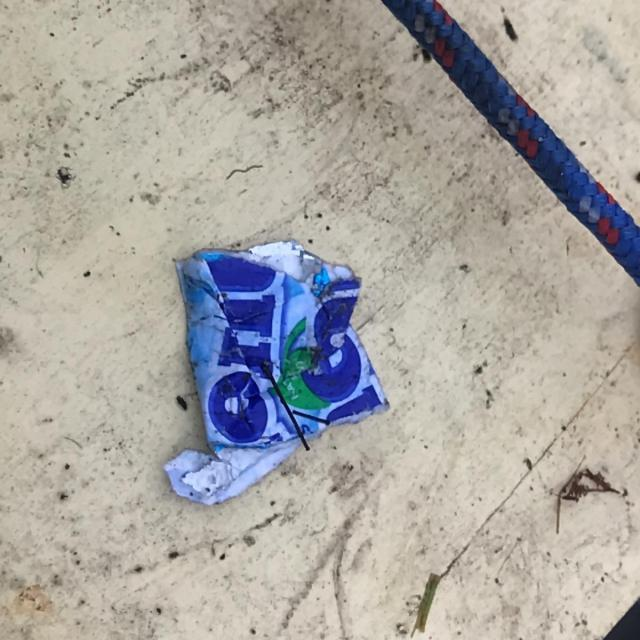Plastic: (160, 236, 393, 510)
